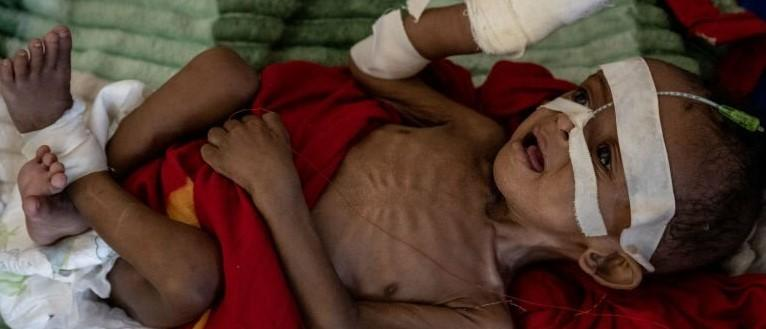Stunting: (486, 57, 766, 308)
